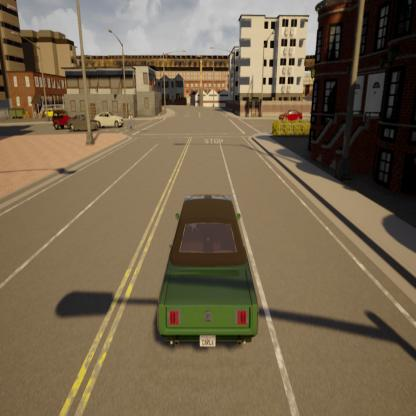Cars: (144, 178, 272, 366), (275, 100, 307, 122), (96, 108, 126, 130), (51, 106, 72, 130), (66, 115, 101, 129), (43, 104, 54, 119)
Pedestrian: (126, 104, 137, 134)
